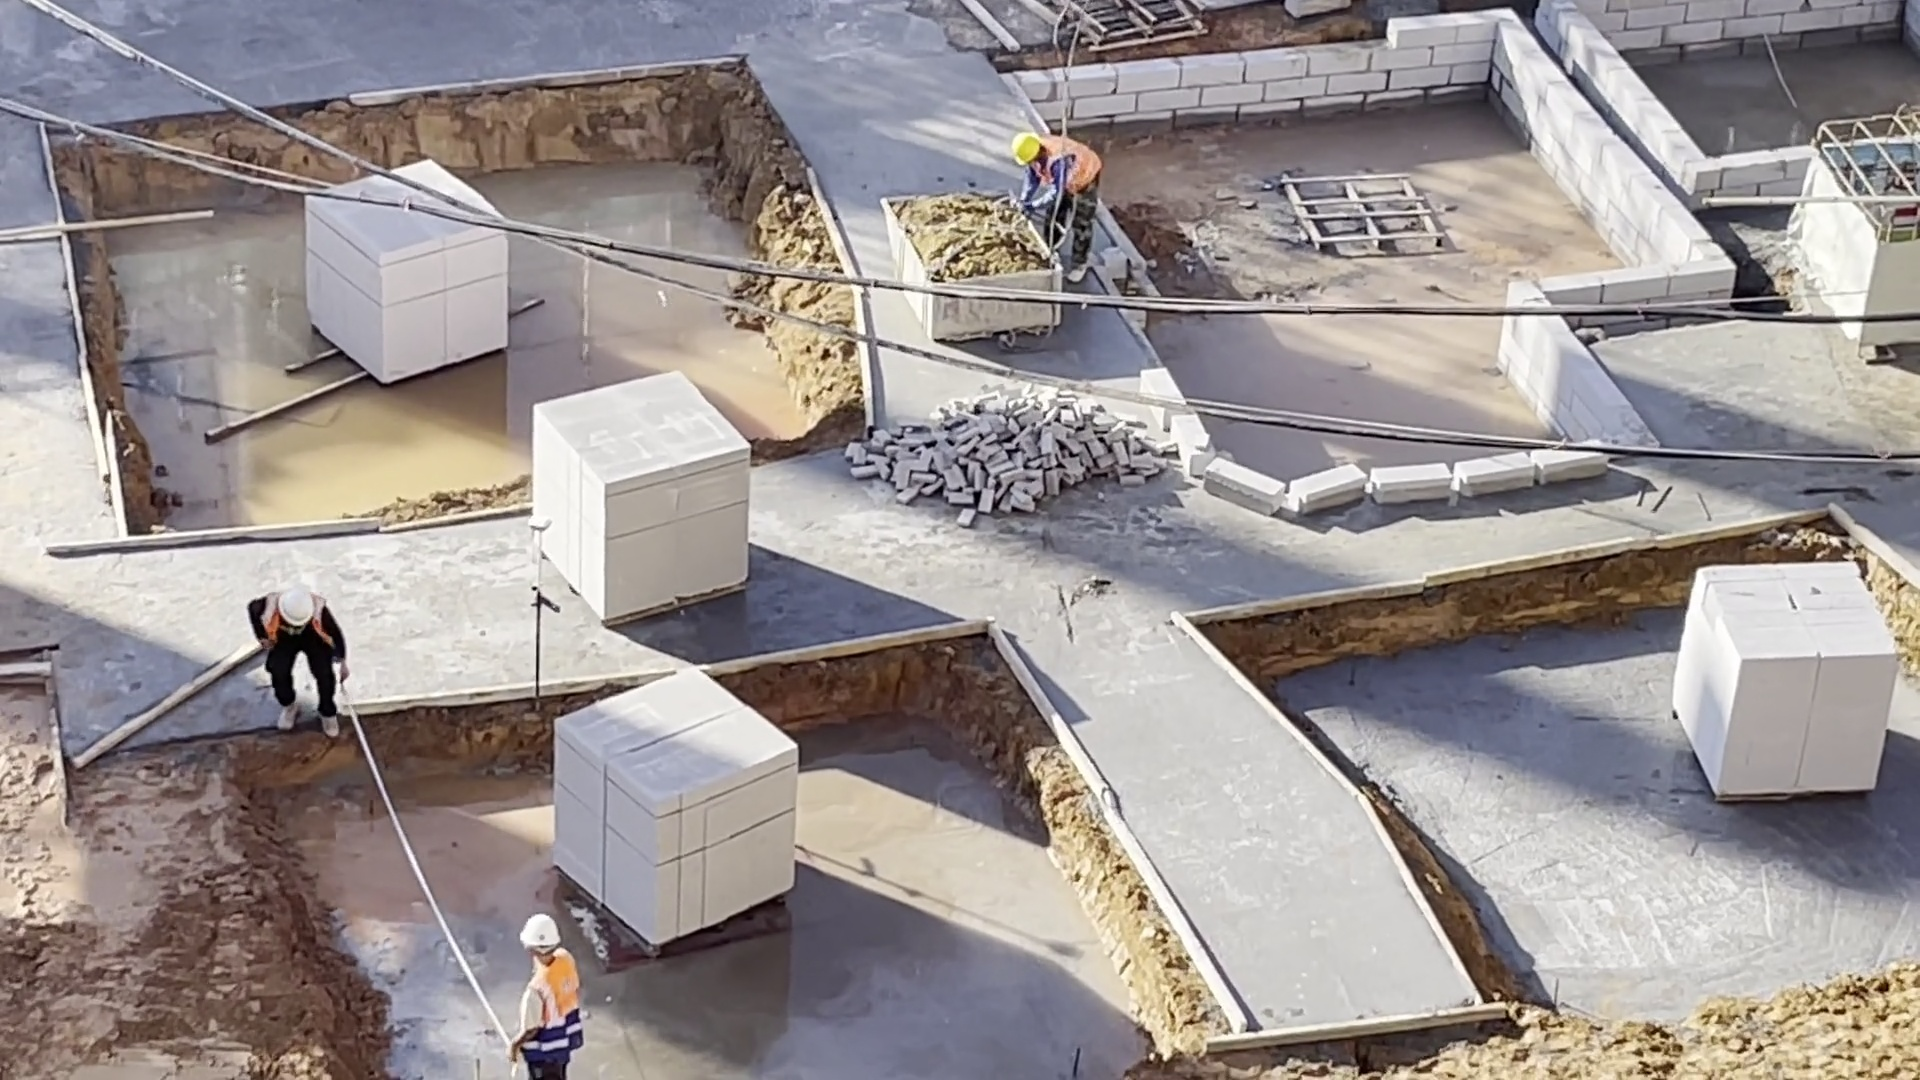brick: (539, 665, 798, 946), (523, 367, 757, 628), (1671, 557, 1904, 801), (295, 234, 513, 390)
helmet: (512, 915, 566, 954), (274, 589, 314, 628), (1010, 132, 1041, 175)
hopper: (880, 186, 1019, 285)
person: (247, 585, 355, 750), (497, 913, 592, 1080), (1007, 128, 1103, 289)
vest: (521, 952, 588, 1063), (1040, 138, 1104, 194)
